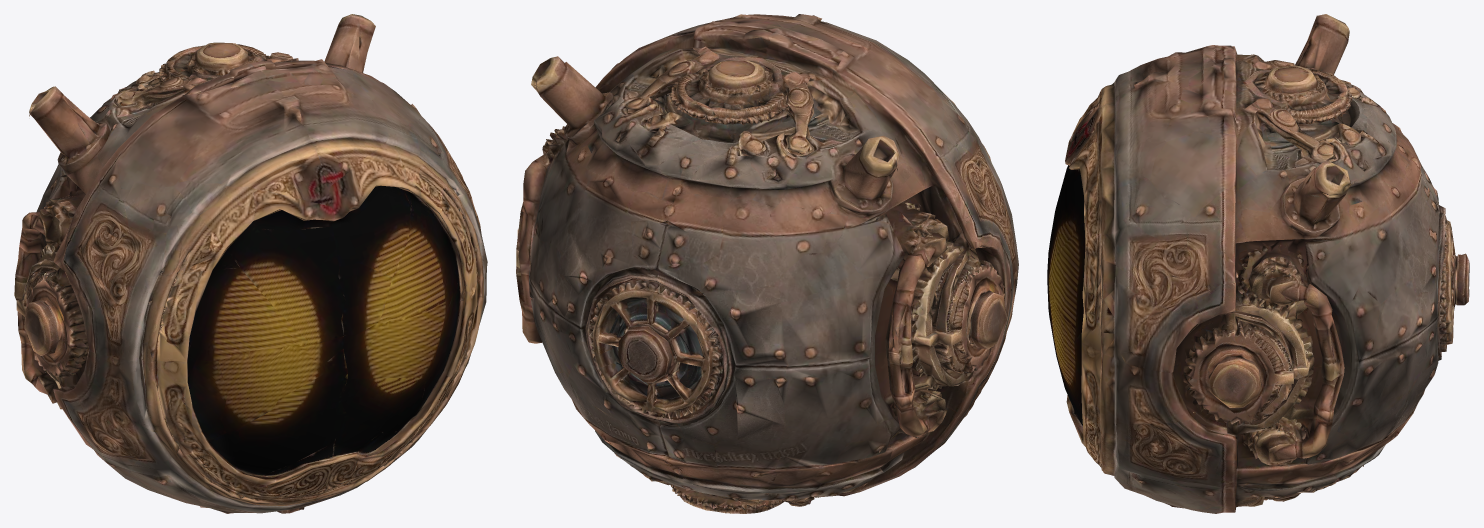
The model's file is mascot.draco.glb.
3 renders of one model, left to right at view 1: azimuth 30°, elevation 25°; view 2: azimuth 150°, elevation 25°; view 3: azimuth 270°, elevation 25°, orthographic. The views are drawn at different scales.
Bounding box in the file's own units: 2 × 1.91 × 1.7.
1 material, 1 textured.
